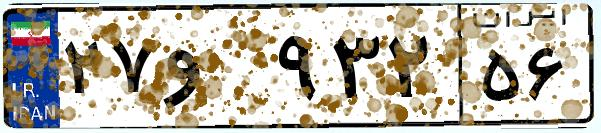2: (385, 28, 445, 110), (57, 26, 110, 100)
3: (330, 28, 385, 110)
5: (475, 38, 525, 113)
6: (525, 38, 570, 115)
7: (110, 28, 158, 98)
9: (270, 28, 330, 110)
و: (158, 20, 270, 120)
